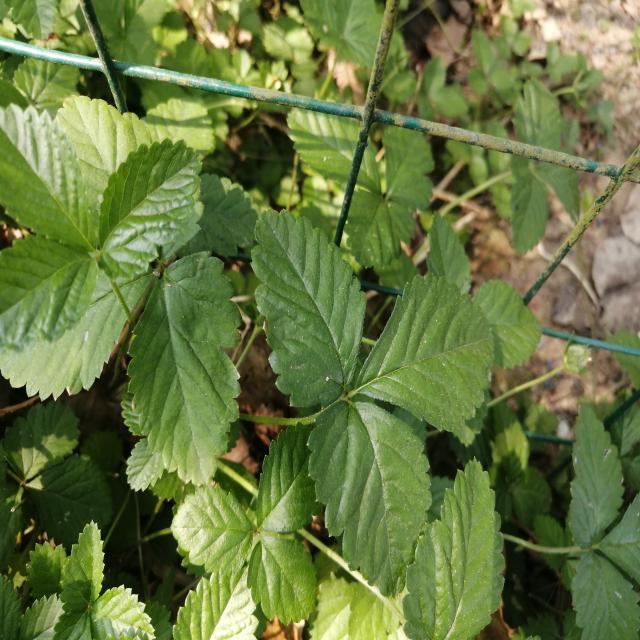Mock_strawberry: (227, 194, 478, 576)
